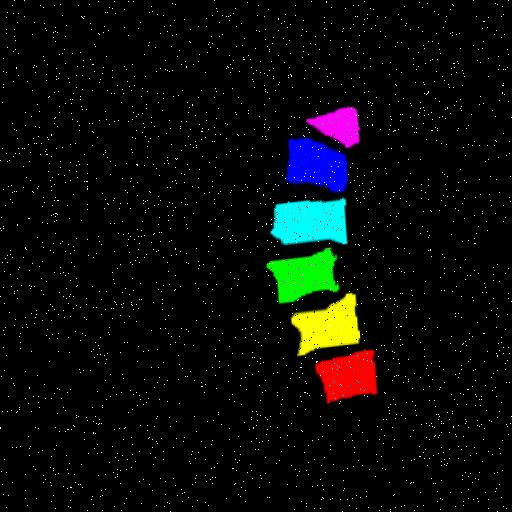L1: (314, 353, 376, 406)
L2: (290, 297, 358, 358)
L3: (266, 252, 337, 305)
L4: (271, 201, 346, 247)
L5: (286, 140, 346, 195)
S1: (306, 110, 358, 150)
